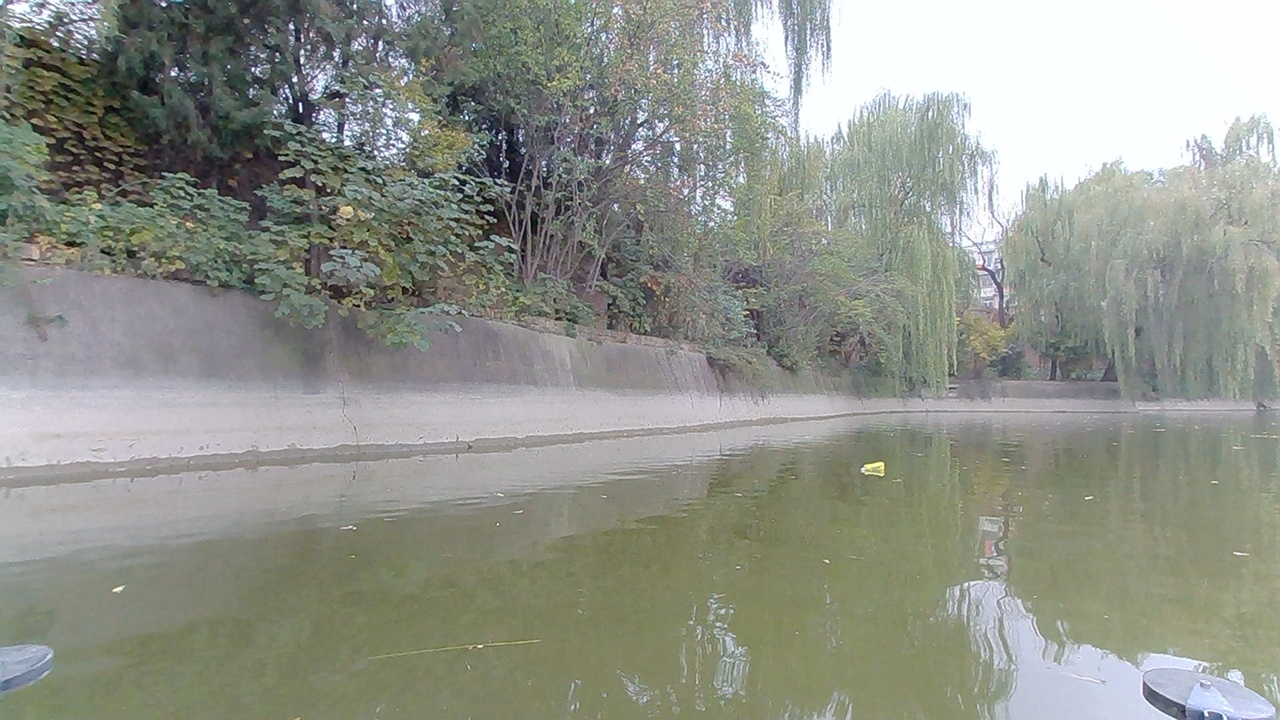bottle: (859, 458, 893, 481)
